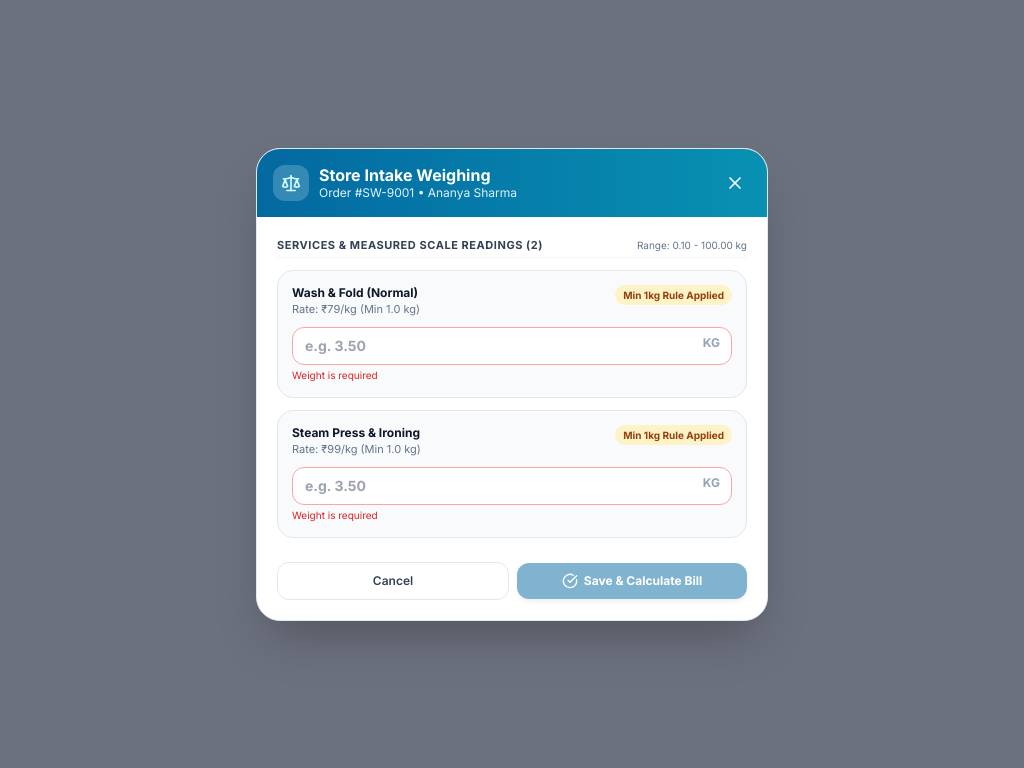
Test: Service-Wise Weighing, Order Calculation & Invoice Workflow (Section 6 Verification) › 19. enforces approved physical scale bounds (0.10 - 100.00 kg) in WeightEntryModal and LaundryService
Expected: the text "Range: 0.10 - 100.00 kg" is shown, 637,236 -> 747,252
Note: Below minimum
Type "0.05" into the number field with placeholder "e.g. 3.50" below "79". click: (512, 346)
box: 292,326 -> 732,364
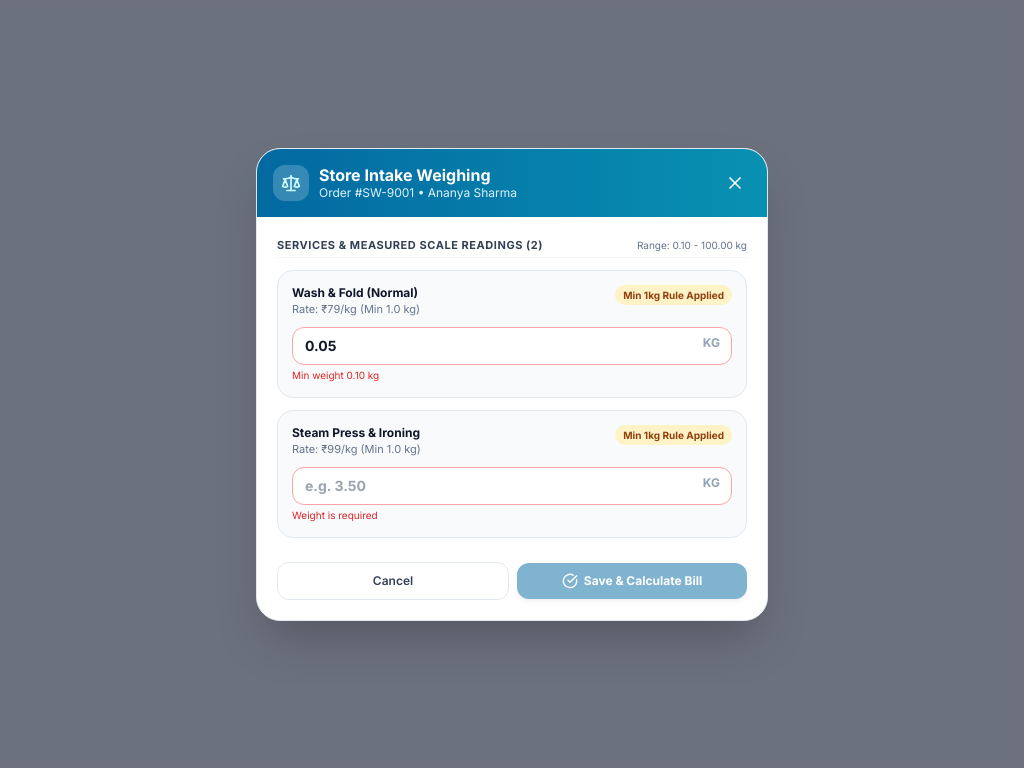
Now the text "Min weight 0.10 kg" is shown, box 292,368 -> 379,380
Note: Above maximum
Replace the text in the number field with placeholder "e.g. 3.50" with "105.00". click: (512, 346)
box: 292,326 -> 732,364
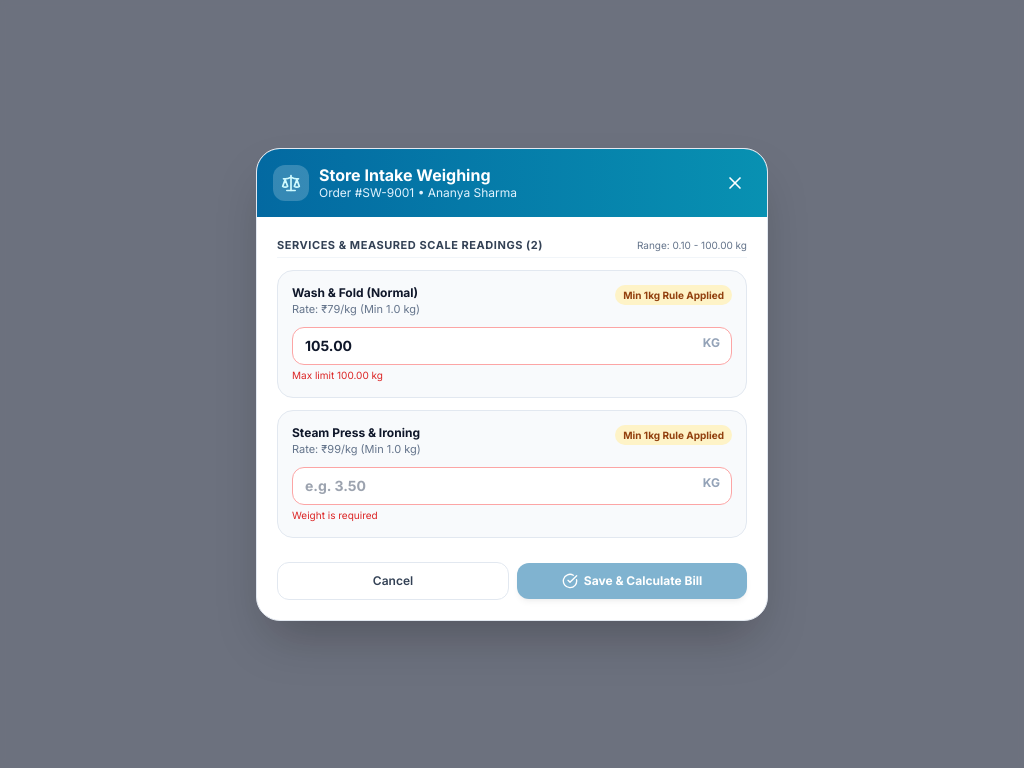
Now the text "Max limit 100.00 kg" is shown, box 292,368 -> 383,380
